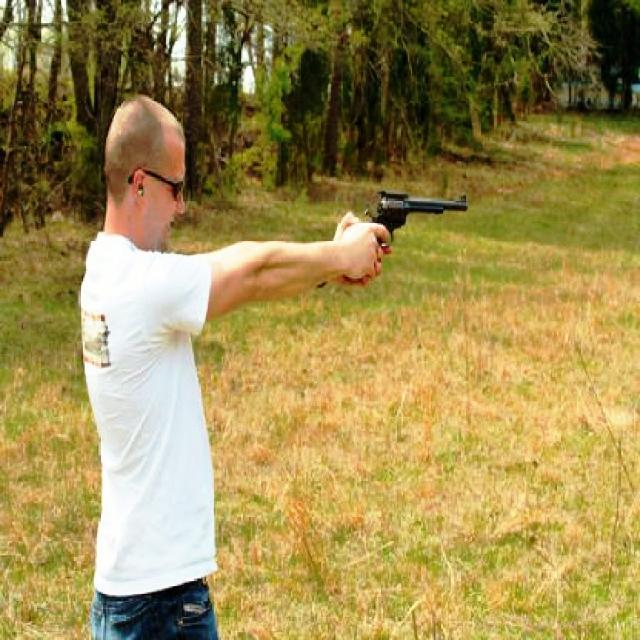Gun: (332, 179, 472, 251)
